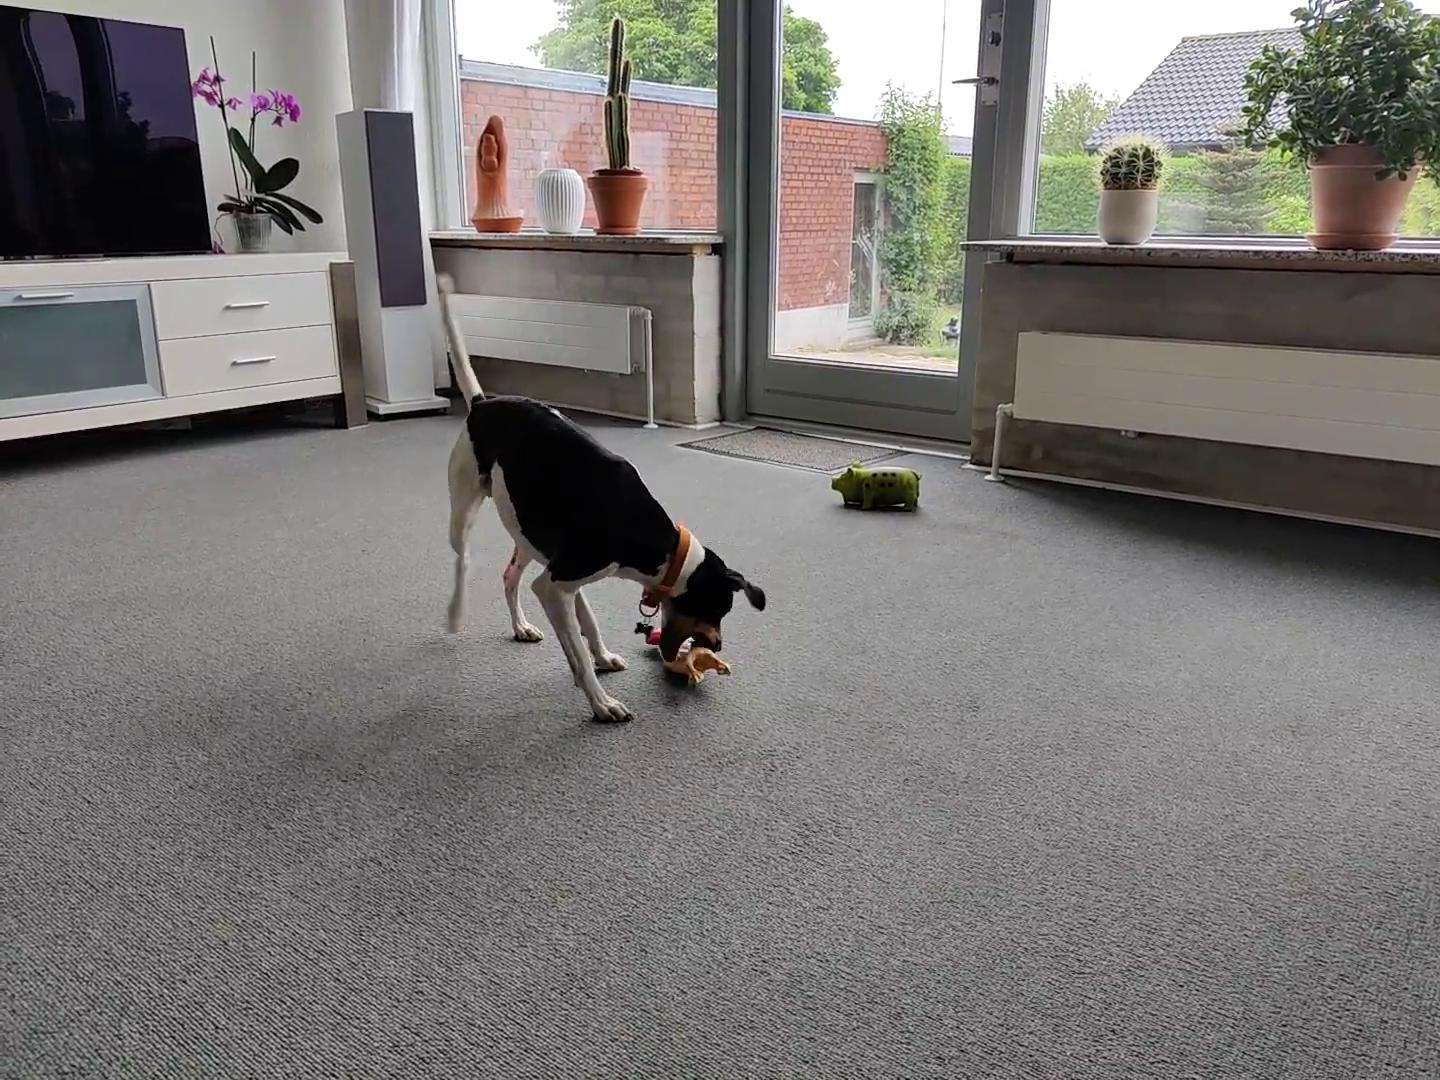Dog: (432, 273, 772, 725)
